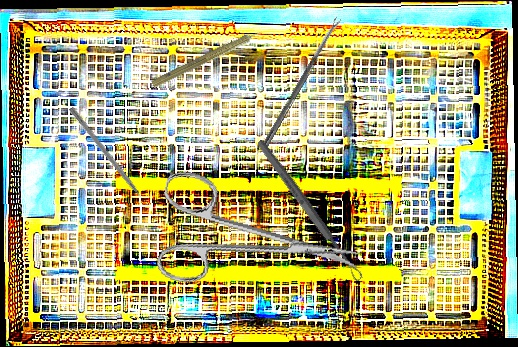Handpiece: (150, 22, 273, 93)
Iris Scissors: (146, 167, 370, 318)
Pusher: (67, 106, 152, 211)
Surgical Spoon: (254, 138, 365, 283), (260, 16, 343, 151)
